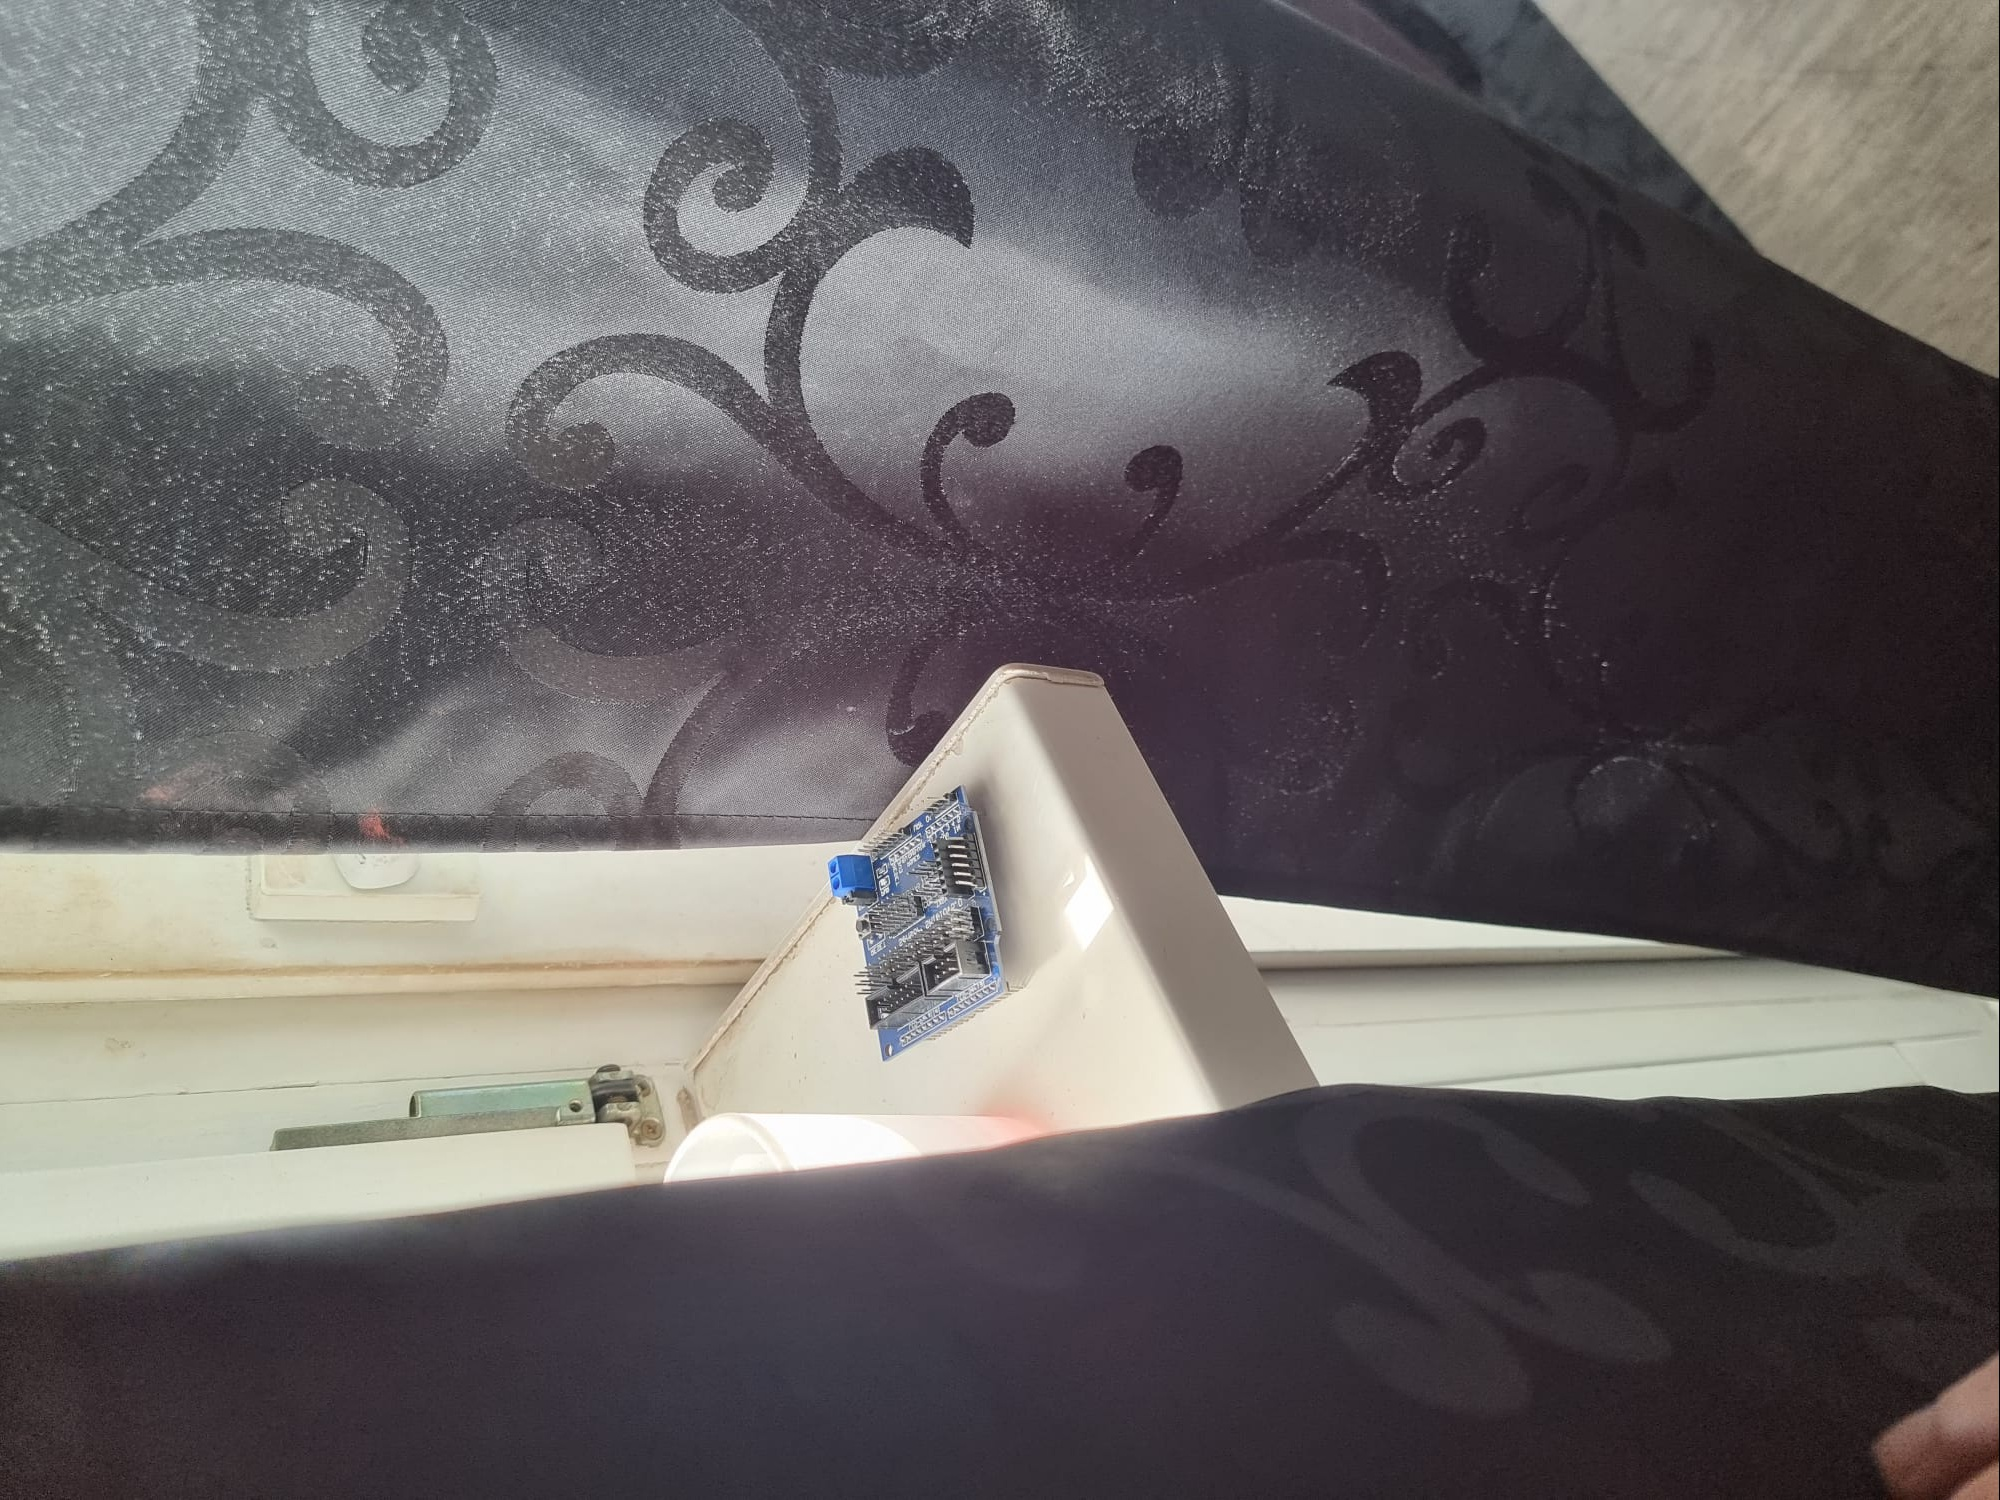5V EXPANSION: (820, 799, 1024, 1060)
